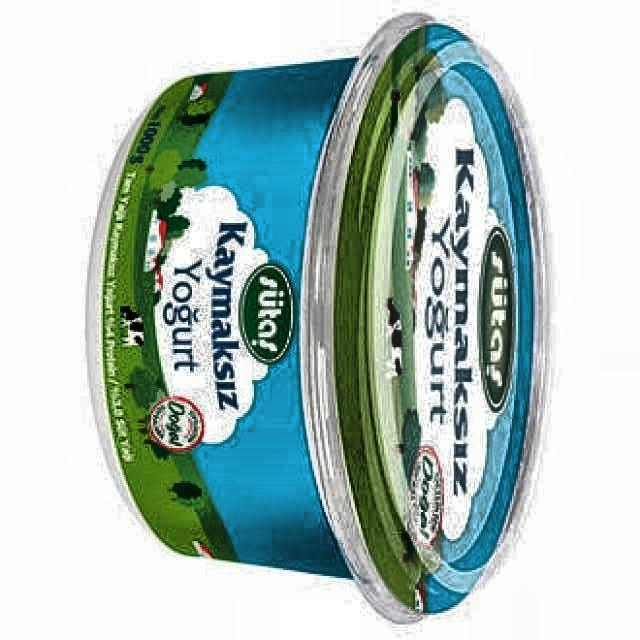plastic: (87, 13, 547, 623)
